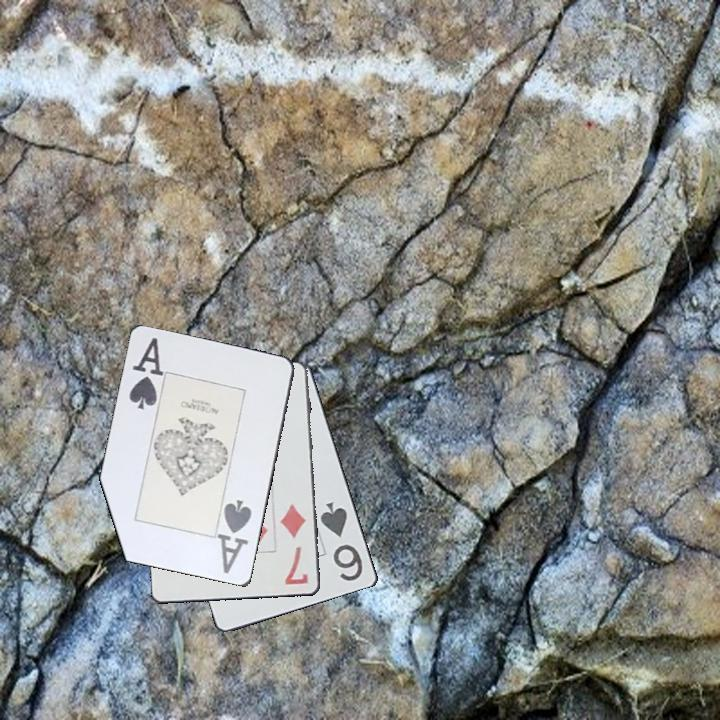6s: (317, 498, 366, 584)
7d: (277, 500, 311, 588)
As: (126, 334, 166, 413), (216, 496, 255, 577)
